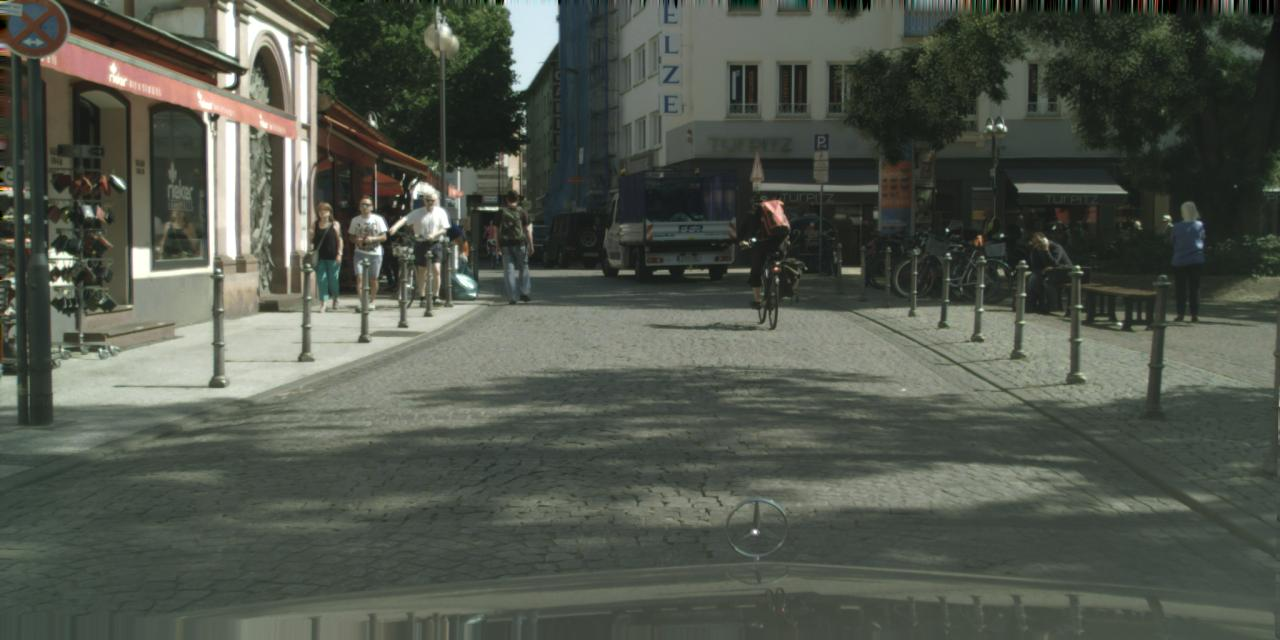ped: (1163, 201, 1212, 321), (406, 190, 454, 307), (341, 195, 388, 311), (492, 189, 538, 303), (304, 201, 348, 310), (744, 191, 786, 293), (372, 205, 407, 291), (425, 207, 459, 289), (976, 207, 1004, 277), (1154, 213, 1178, 275), (1126, 220, 1148, 275), (484, 220, 499, 260)
